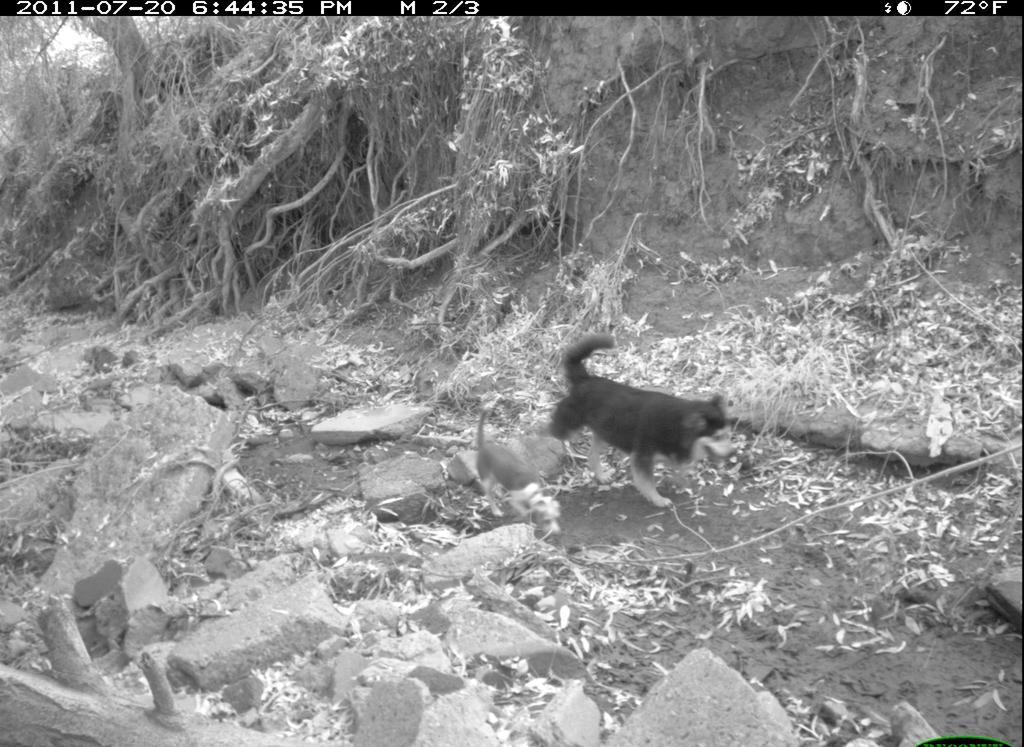dog: (541, 328, 748, 513), (467, 402, 573, 545)
